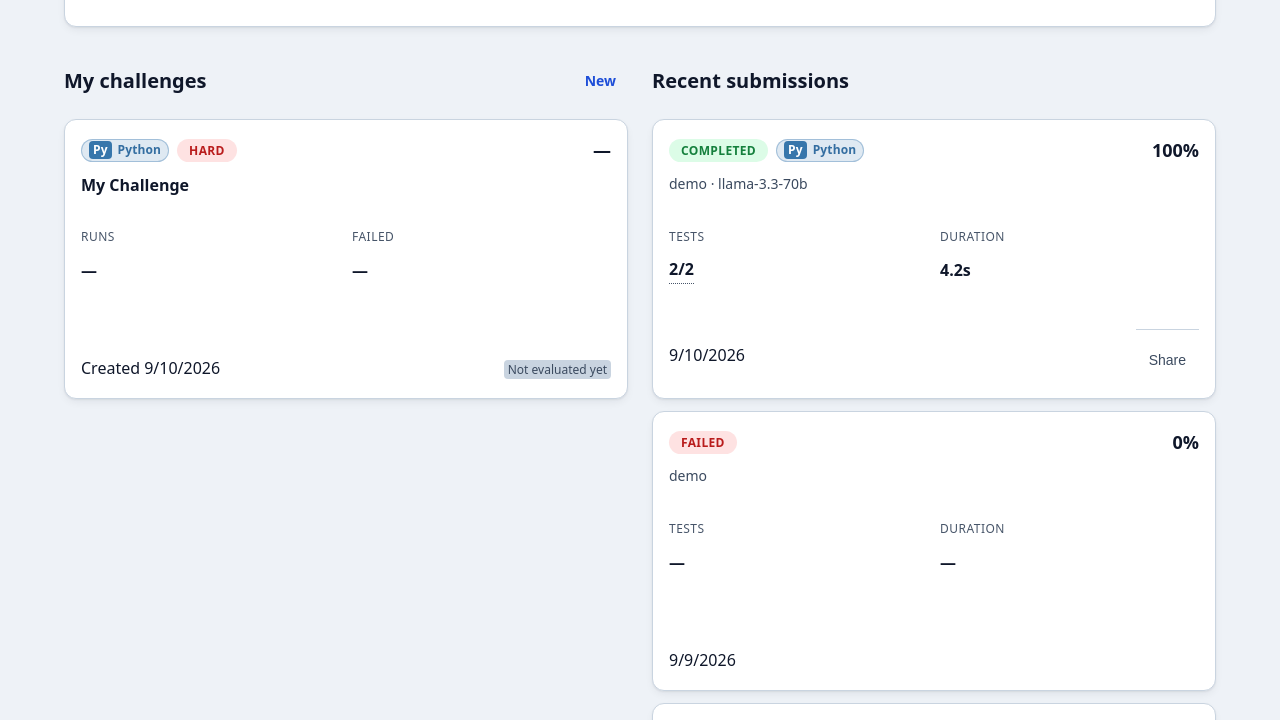
Test: Profile › evaluations dashboard › lets a user share a completed submission from the list
The width and height of the screenshot is (1280, 720).
(page scrolled)
Check: the heading "Recent submissions" is shown, box x1=652 y1=69 x2=849 y2=93
Click the button "Share": [1167, 360] box x1=1136 y1=338 x2=1199 y2=382
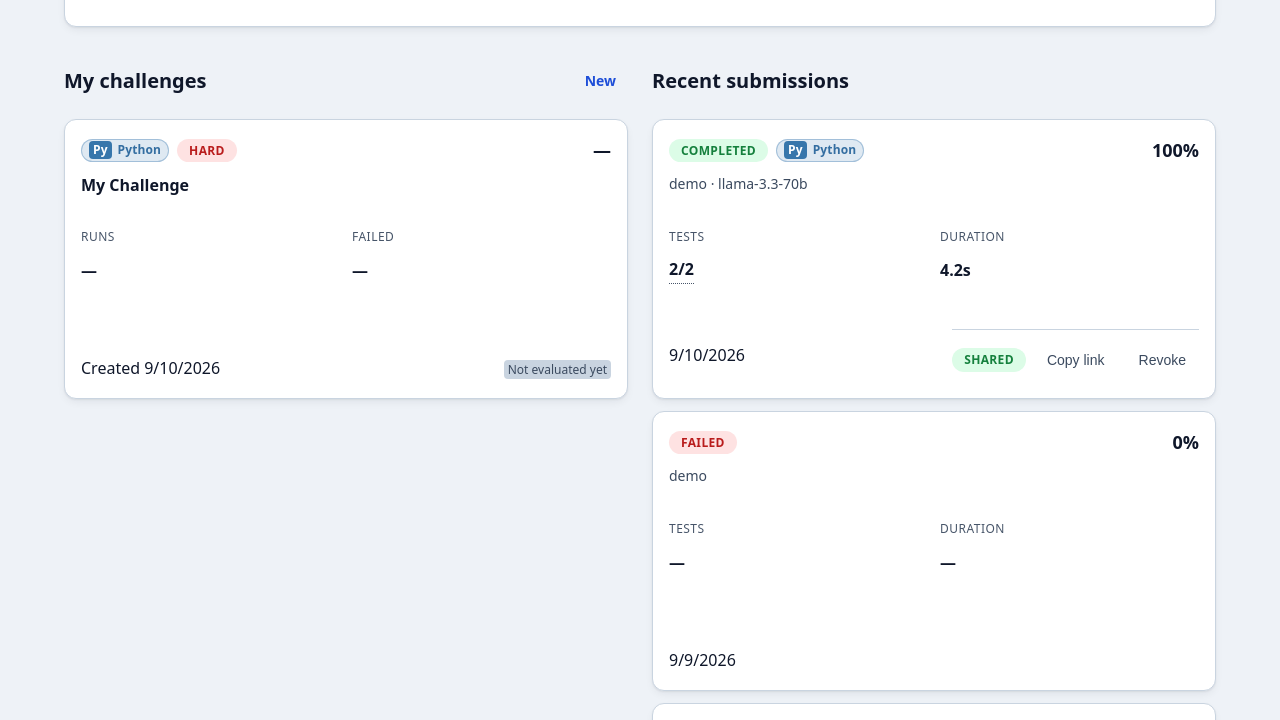
Check: the text "Shared" is shown, box x1=952 y1=348 x2=1026 y2=372
Check: the button "Copy link" is shown, box x1=1034 y1=338 x2=1118 y2=382
